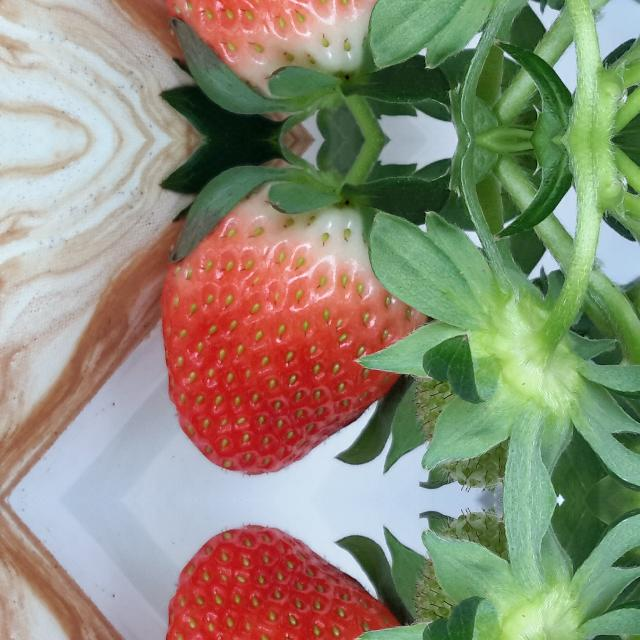Health_100: (160, 180, 428, 476), (160, 524, 428, 640), (160, 0, 428, 100)
